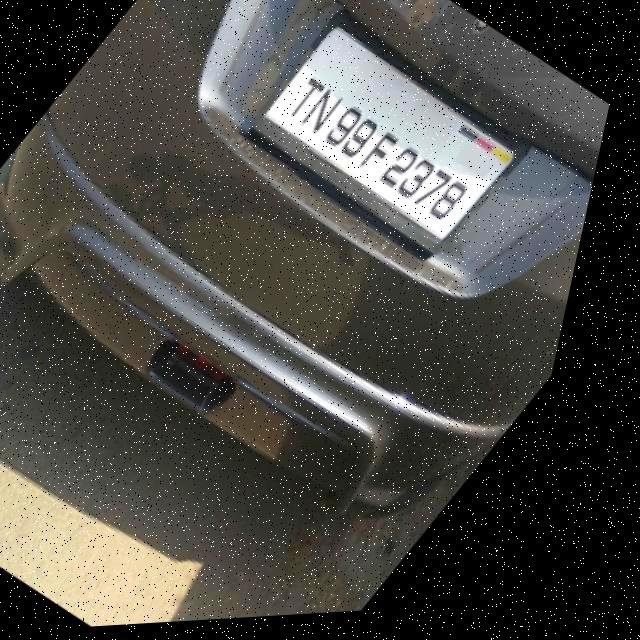license_plate: (242, 22, 546, 256)
